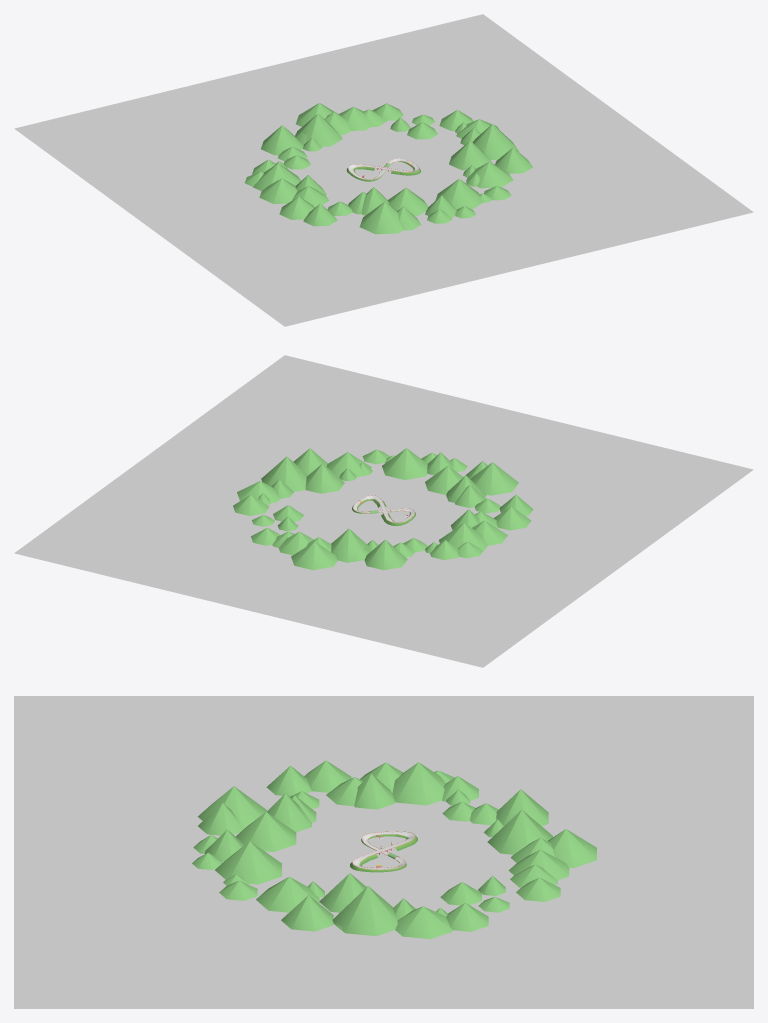
Rendered from bake.glb.
3 renders of one model, top to bottom at view 1: azimuth 30°, elevation 25°; view 2: azimuth 150°, elevation 25°; view 3: azimuth 270°, elevation 25°, orthographic. The views are drawn at different scales.
Parts seen in each view (by area): view 1: bk0022, bk0038, bk0023, bk0032, bk0056, bk0025, bk0028, bk0053, bk0046, bk0036, bk0047, bk0026 (+1 smaller); view 2: bk0022, bk0032, bk0038, bk0023, bk0057, bk0053, bk0025, bk0056, bk0047, bk0036, bk0028, bk0043; view 3: bk0022, bk0023, bk0032, bk0047, bk0056, bk0036, bk0067, bk0028, bk0057, bk0026, bk0038, bk0053 (+17 smaller).
Part boxes in pixels (x1=…): bk0022: x1=14, y1=14, x2=753, y2=326; bk0038: x1=359, y1=201, x2=403, y2=234; bk0023: x1=473, y1=124, x2=519, y2=159; bk0032: x1=435, y1=179, x2=482, y2=209; bk0056: x1=296, y1=114, x2=342, y2=146; bk0025: x1=449, y1=140, x2=492, y2=170; bk0028: x1=466, y1=162, x2=513, y2=188; bk0053: x1=261, y1=125, x2=303, y2=155; bk0046: x1=259, y1=178, x2=297, y2=203; bk0036: x1=388, y1=188, x2=428, y2=215; bk0047: x1=253, y1=163, x2=300, y2=191; bk0026: x1=495, y1=147, x2=532, y2=173; bk0022: x1=14, y1=355, x2=753, y2=667; bk0032: x1=382, y1=448, x2=427, y2=479; bk0038: x1=470, y1=462, x2=518, y2=495; bk0023: x1=261, y1=456, x2=307, y2=491; bk0057: x1=291, y1=541, x2=337, y2=570; bk0053: x1=364, y1=539, x2=407, y2=570; bk0025: x1=305, y1=463, x2=344, y2=493; bk0056: x1=331, y1=528, x2=370, y2=562; bk0047: x1=439, y1=522, x2=487, y2=551; bk0036: x1=425, y1=466, x2=463, y2=494; bk0028: x1=327, y1=452, x2=371, y2=477; bk0043: x1=493, y1=506, x2=531, y2=530; bk0022: x1=14, y1=696, x2=753, y2=1008; bk0023: x1=332, y1=886, x2=397, y2=936; bk0032: x1=215, y1=841, x2=281, y2=884; bk0047: x1=392, y1=762, x2=445, y2=805; bk0056: x1=487, y1=809, x2=552, y2=854; bk0036: x1=235, y1=812, x2=296, y2=851; bk0067: x1=395, y1=906, x2=452, y2=939; bk0028: x1=256, y1=876, x2=319, y2=912; bk0057: x1=548, y1=829, x2=596, y2=867; bk0026: x1=281, y1=895, x2=333, y2=931; bk0038: x1=198, y1=786, x2=266, y2=828; bk0053: x1=496, y1=789, x2=548, y2=825.
Size of the model in its own units: 4000 by 213 by 4000.
